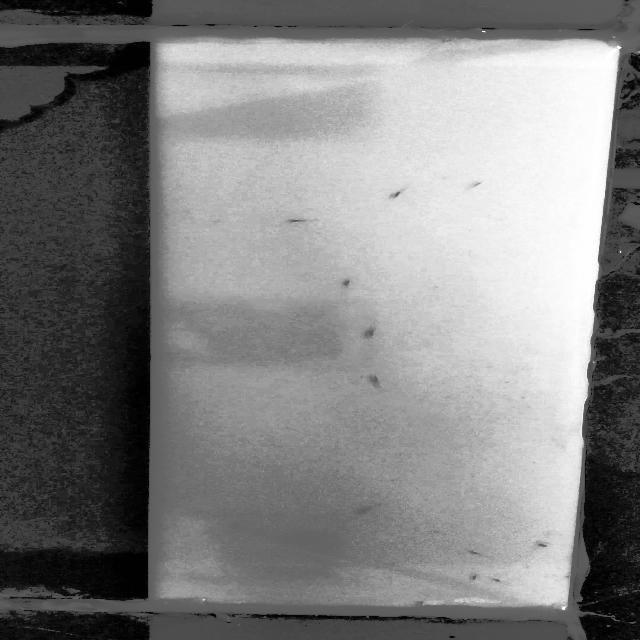shrimp: (452, 170, 501, 193), (382, 184, 424, 202), (281, 216, 326, 227), (370, 369, 393, 386), (338, 277, 364, 289), (463, 546, 488, 558), (354, 505, 384, 514), (361, 326, 381, 339), (532, 541, 560, 549), (465, 571, 483, 582), (492, 576, 508, 586)
